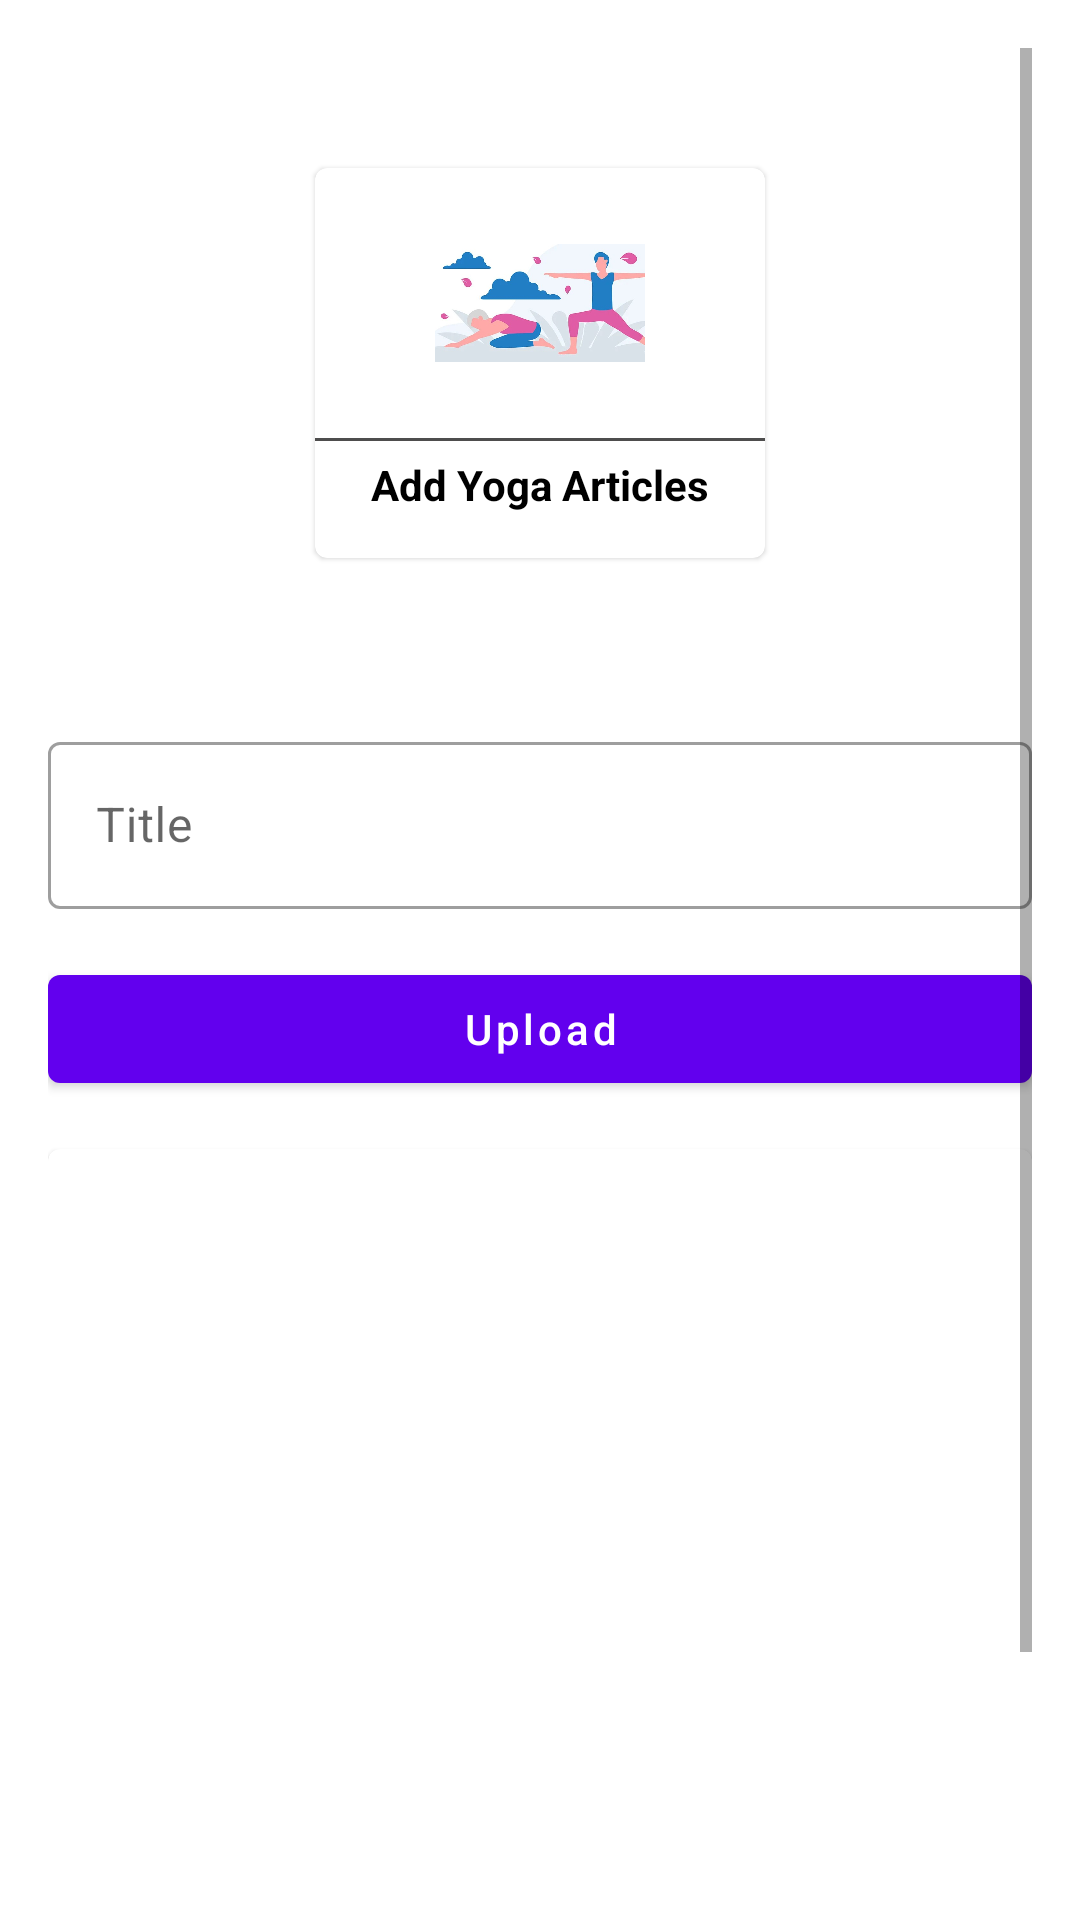

Point at icon controls on the screen. Image size 1080*1920, points as point (x, y).
yogatemp: point (540, 306)
